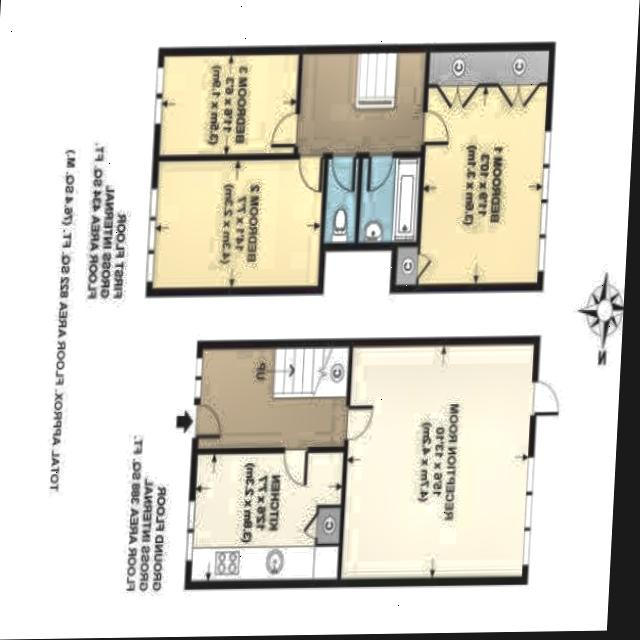room: (340, 336, 533, 588), (395, 44, 548, 292), (149, 159, 326, 288), (188, 453, 344, 582), (195, 347, 351, 449), (157, 55, 300, 156), (295, 52, 427, 154), (357, 154, 420, 246), (322, 157, 359, 245)
